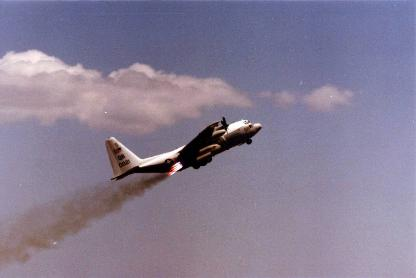Be200: (104, 116, 262, 180)
